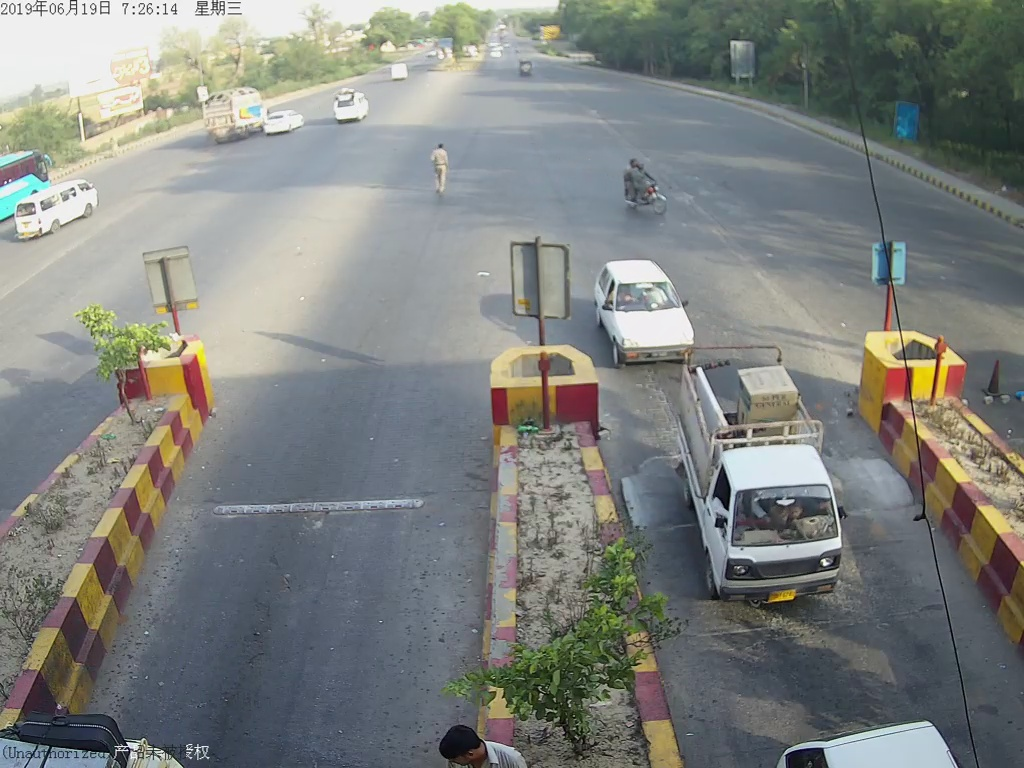Cat-1: (681, 372, 850, 600), (596, 259, 693, 364)
